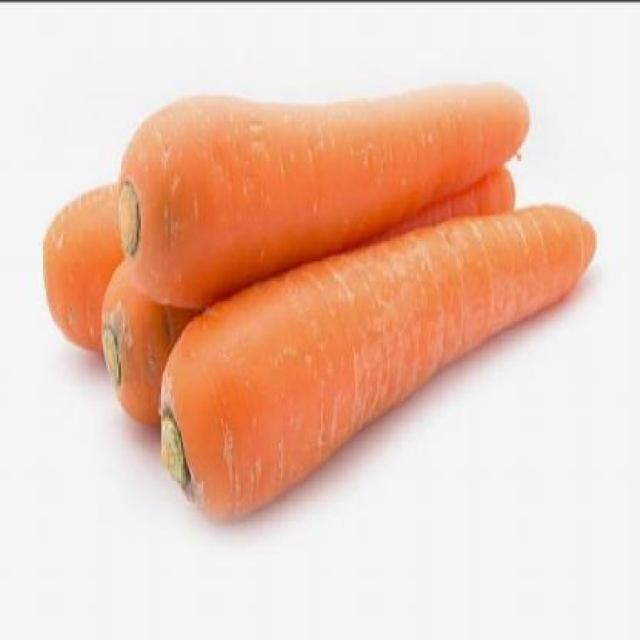carrot: (158, 202, 596, 520), (117, 82, 529, 310), (102, 256, 200, 427), (42, 178, 127, 350)
